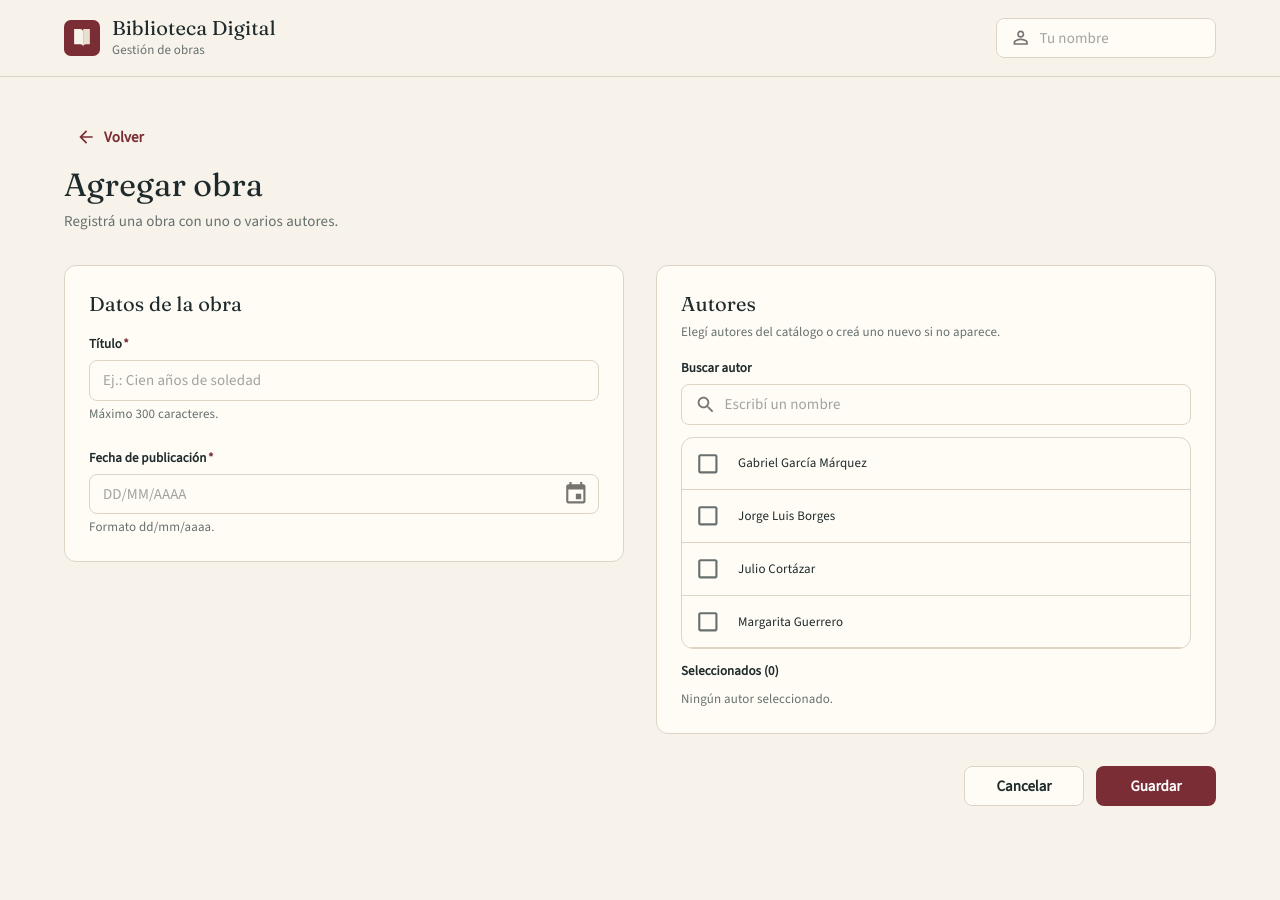
Test: Agregar obra › muestra errores de validación inline
Expected: the list named "Autores encontrados" is shown, 682,438 -> 1190,648
Click the button "Guardar". click: [1156, 786]
box: 1096,766 -> 1216,806
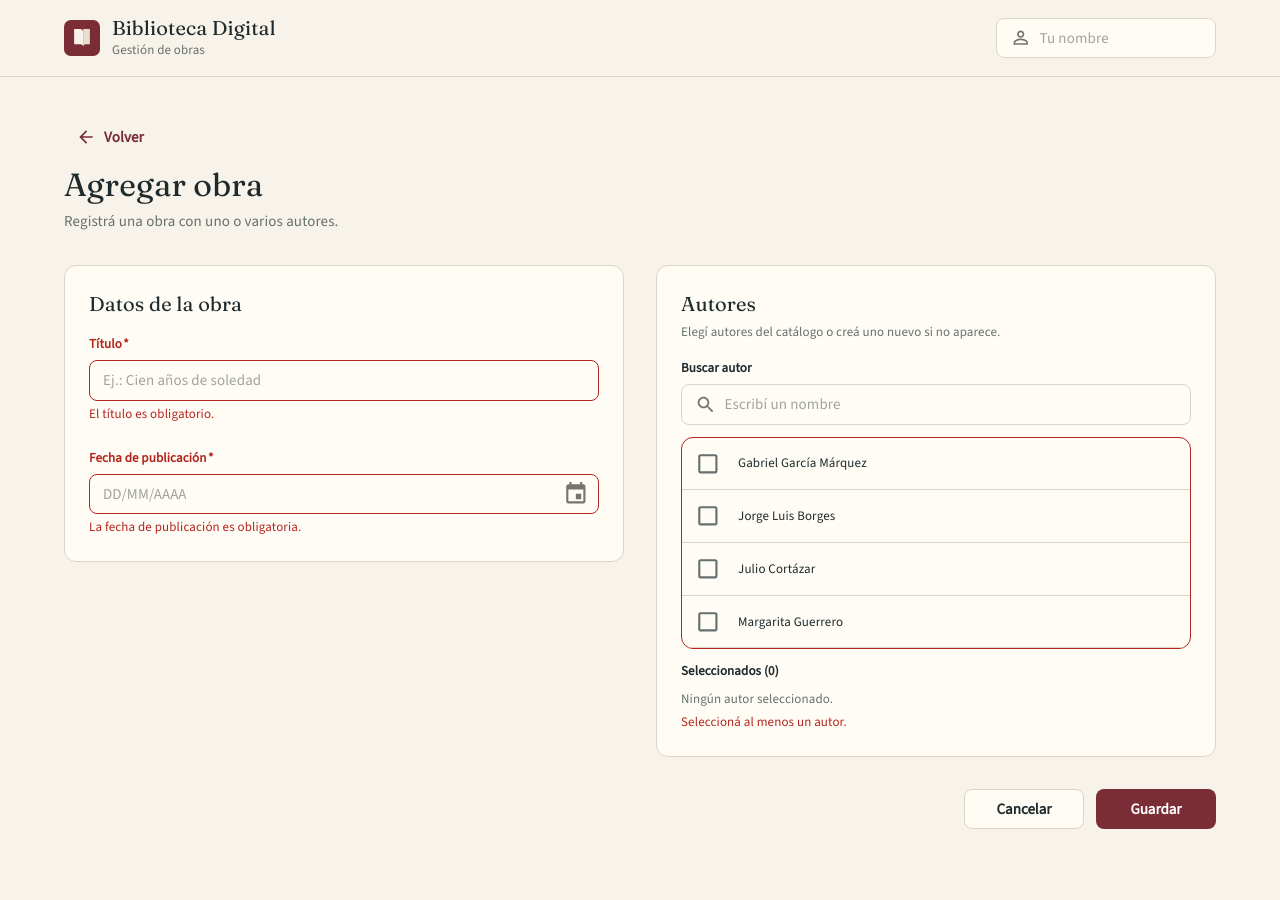
Result: the text "El título es obligatorio." is shown at 89,405 -> 214,422
Result: the text "La fecha de publicación es obligatoria." is shown at 89,518 -> 301,535
Result: the text "Seleccioná al menos un autor." is shown at 681,713 -> 847,730
